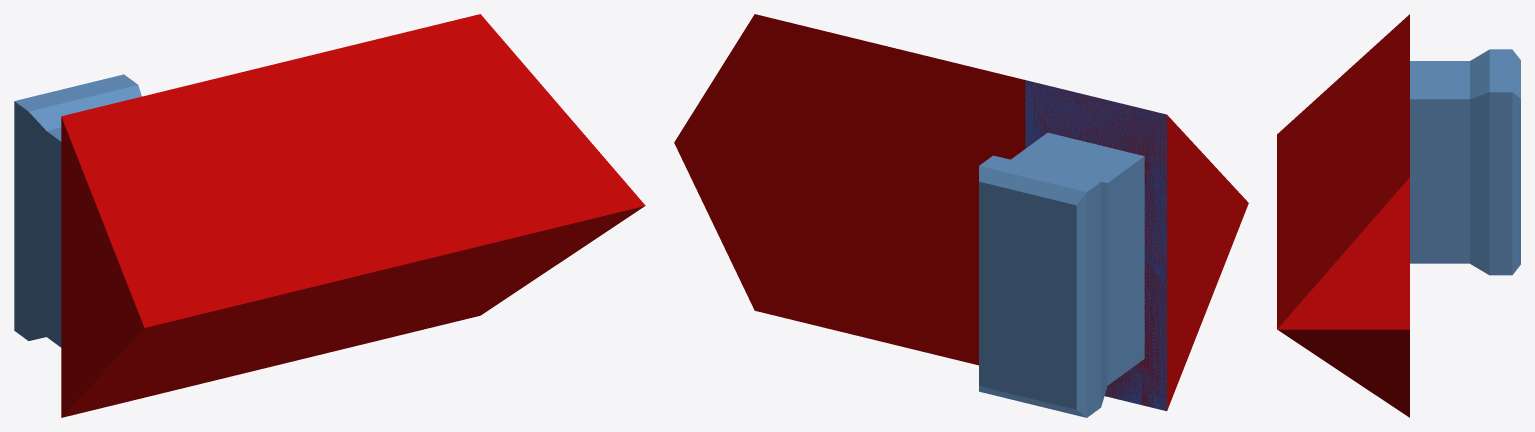
Rendered from ship.glb.
The picture shows the model from 3 angles, left to right: view 1: azimuth 30°, elevation 25°; view 2: azimuth 150°, elevation 25°; view 3: azimuth 270°, elevation 25°; orthographic projection. The views are drawn at different scales.
Visible parts, largest first — view 1: Cube; view 2: Cube; view 3: Cube.
Boxes of the visible parts, left/top/right/bottom form: Cube: left=14, top=14, right=645, bottom=417; Cube: left=674, top=14, right=1248, bottom=417; Cube: left=1277, top=14, right=1520, bottom=417.
Bounding box in the file's own units: 6.95 × 4 × 3.67.
Materials: 1 (1 with a texture image).
